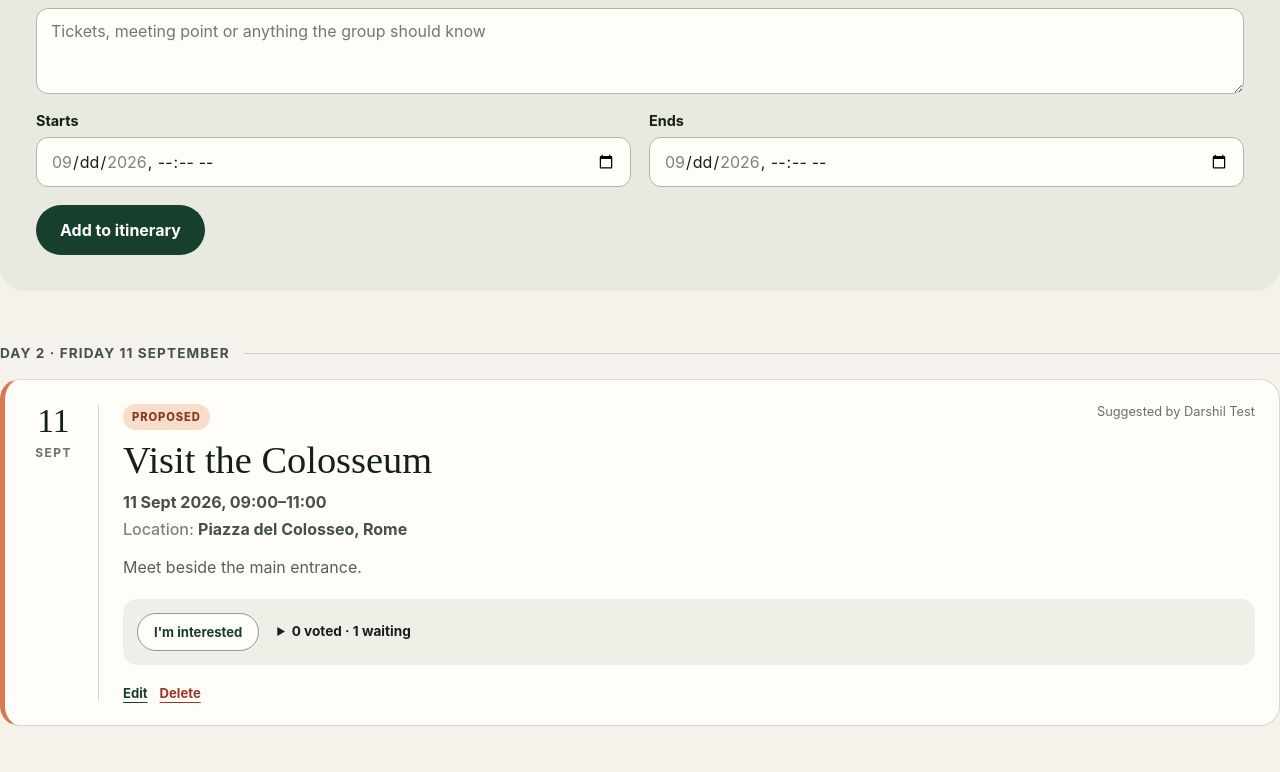
Test: itinerary activity flow › lets the creator edit and delete their proposal
This screenshot has width=1280, height=772.
(page scrolled)
Click the button "Edit" at (135, 693), box [123, 685, 148, 701]
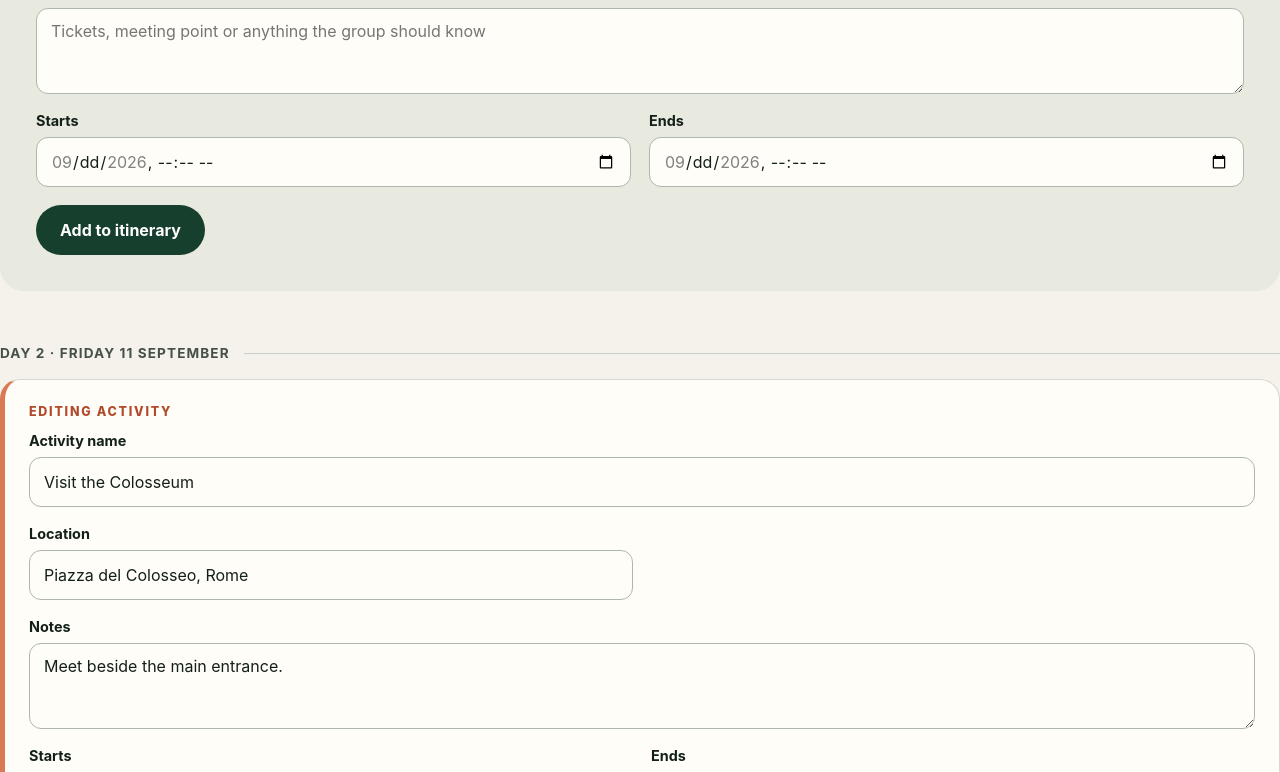
Type "Colosseum guided tour" into the field showing "Visit the Colosseum" at (642, 482), box [29, 456, 1255, 506]
(page scrolled)
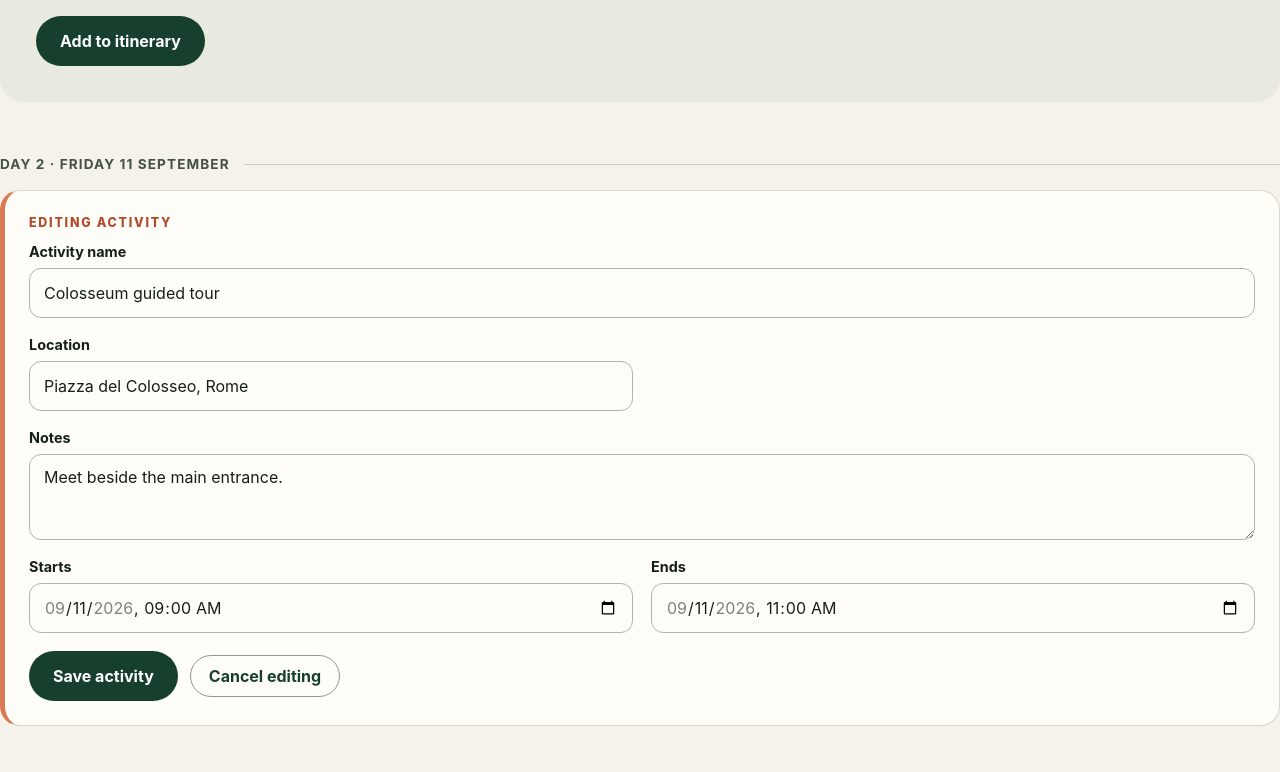
Click the button "Save activity" at (103, 676), box [29, 650, 178, 700]
(page scrolled)
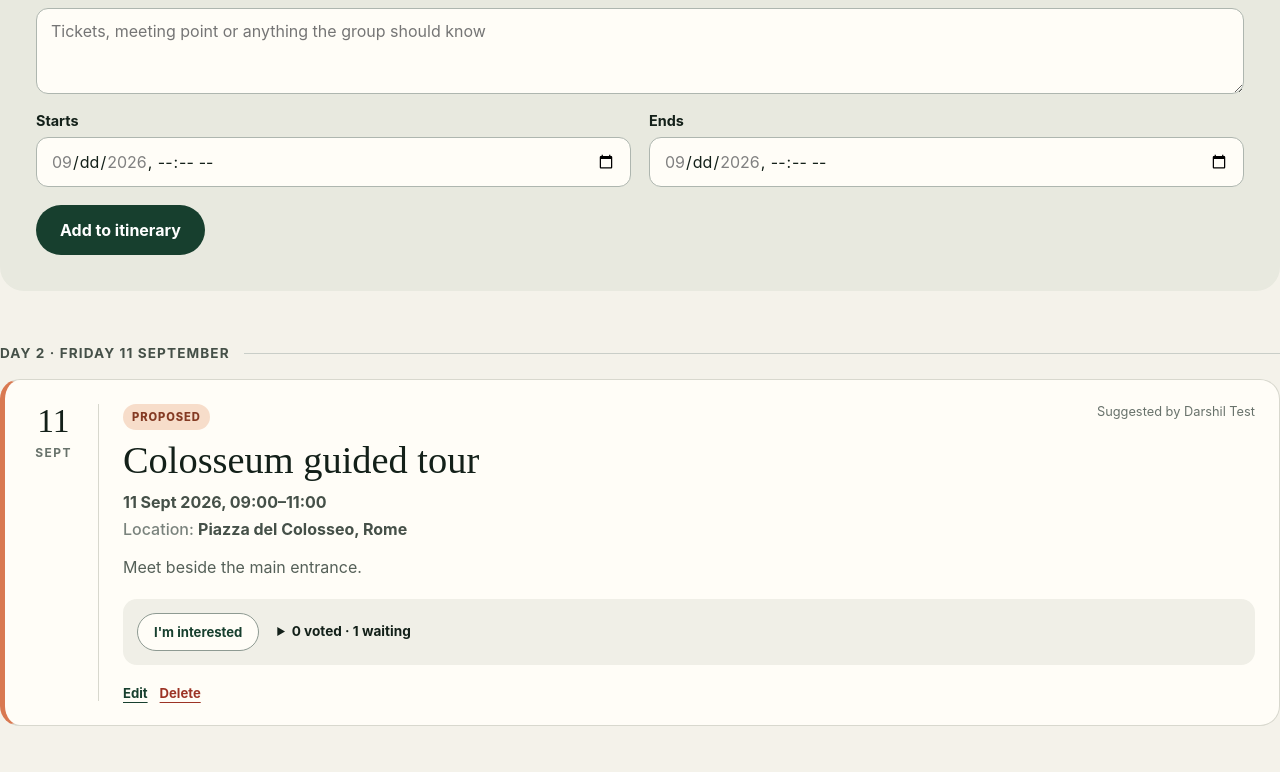
Expected: the heading "Colosseum guided tour" is shown, [123, 438, 479, 482]
Click the button "Delete" at (180, 693), box [160, 685, 201, 701]
(page scrolled)
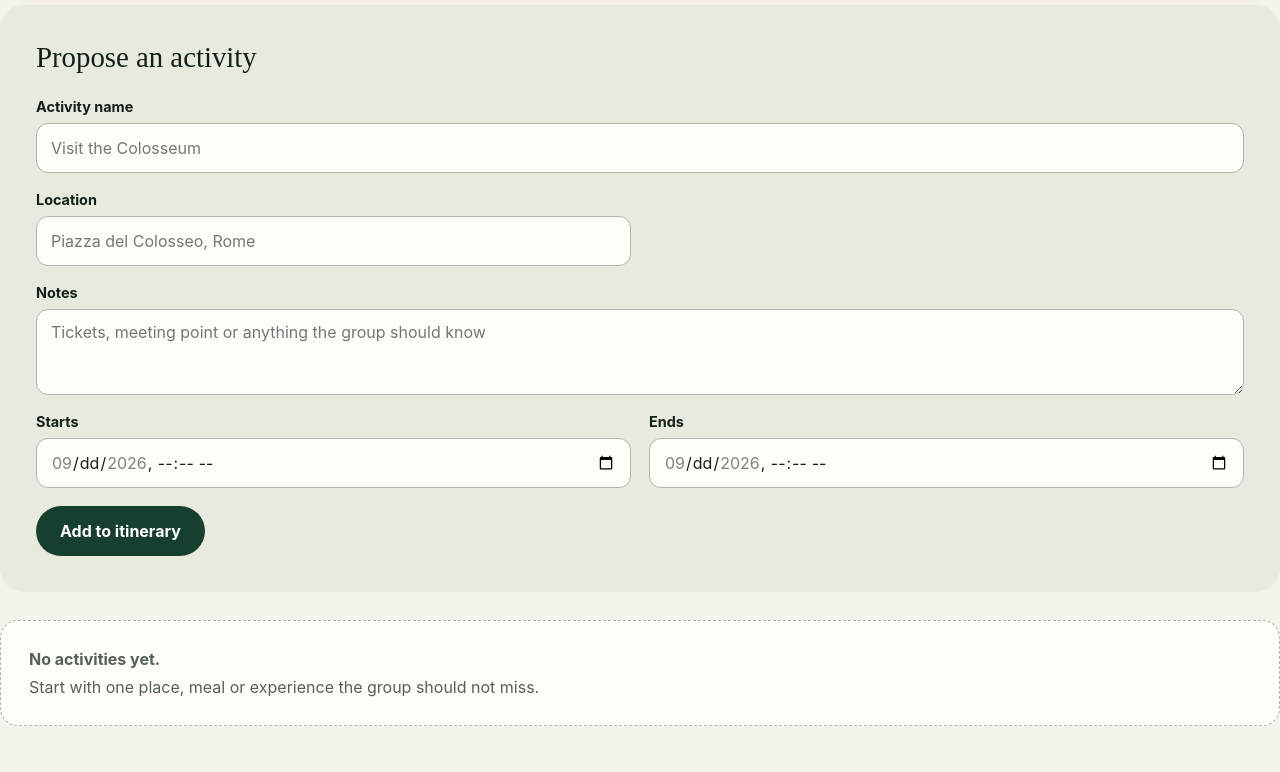
Expected: the text "No activities yet." is shown, [29, 649, 160, 669]
